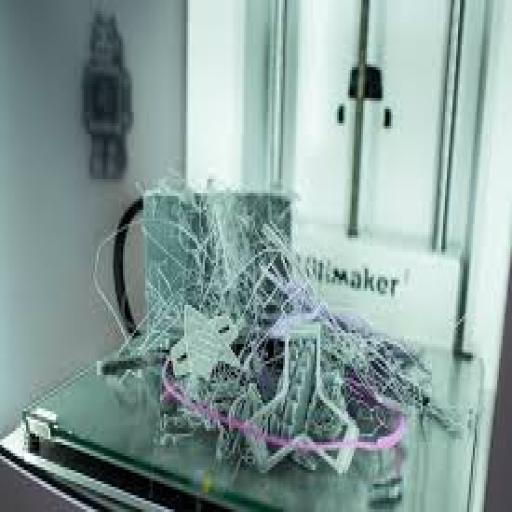spaghetti: (74, 138, 415, 458)
